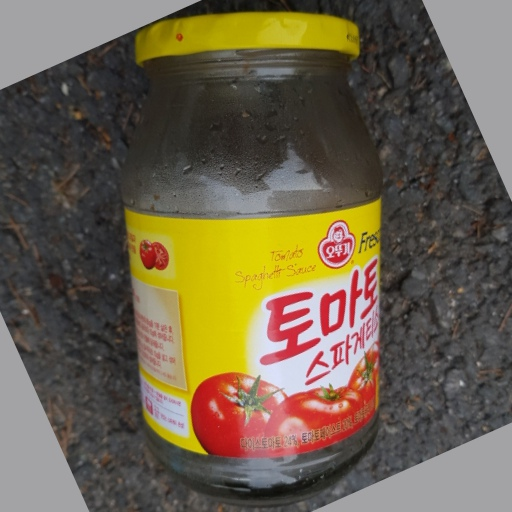Glass_5: (122, 10, 391, 495)
